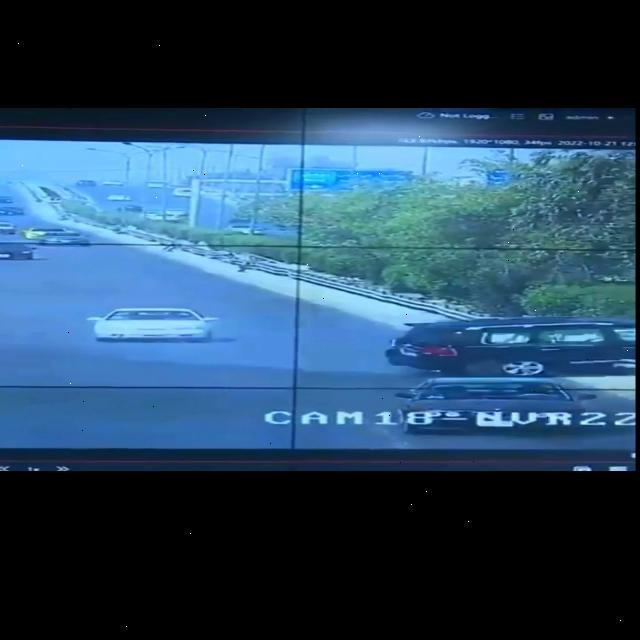accident: (394, 310, 640, 375)
